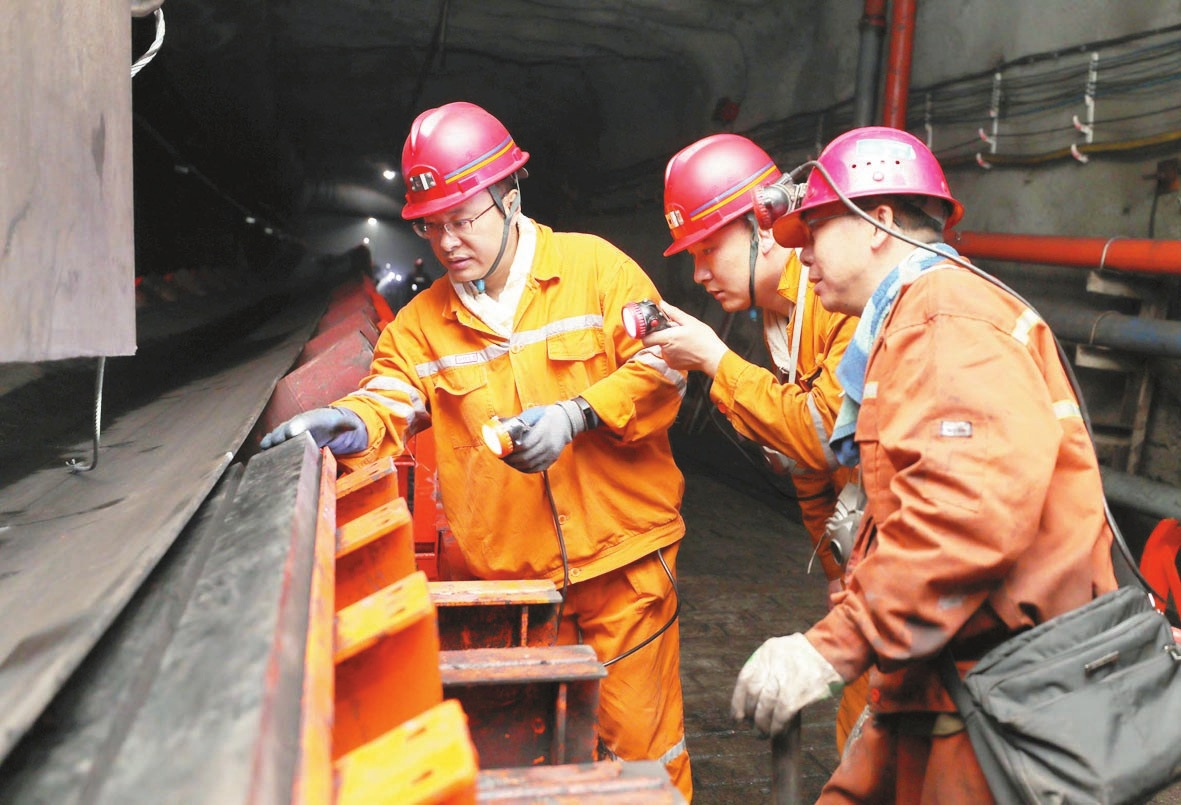helmet: (774, 123, 972, 311), (386, 96, 556, 298), (648, 112, 803, 317)
